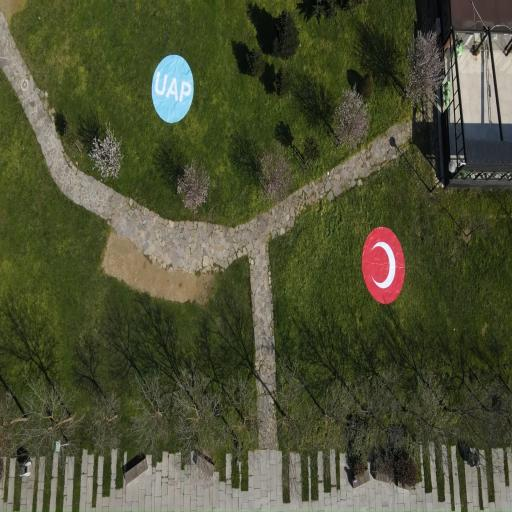UAP: (362, 227, 405, 303)
car: (152, 55, 193, 122)
